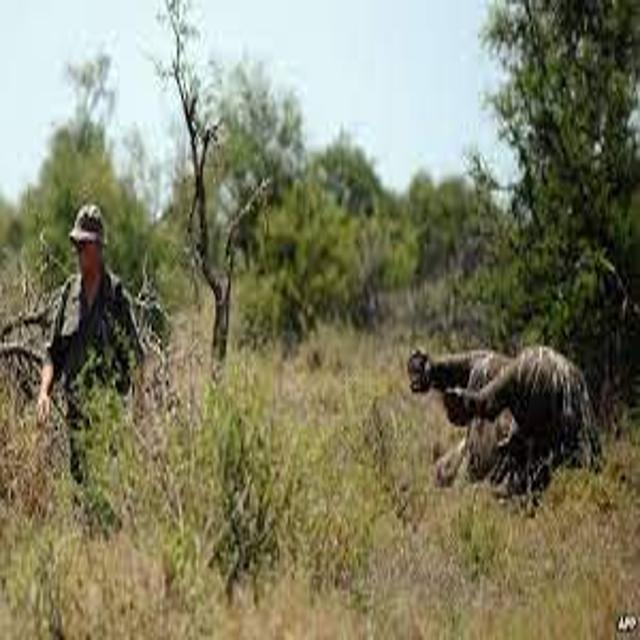poacher: (21, 188, 210, 555)
rhino: (379, 298, 624, 545)
